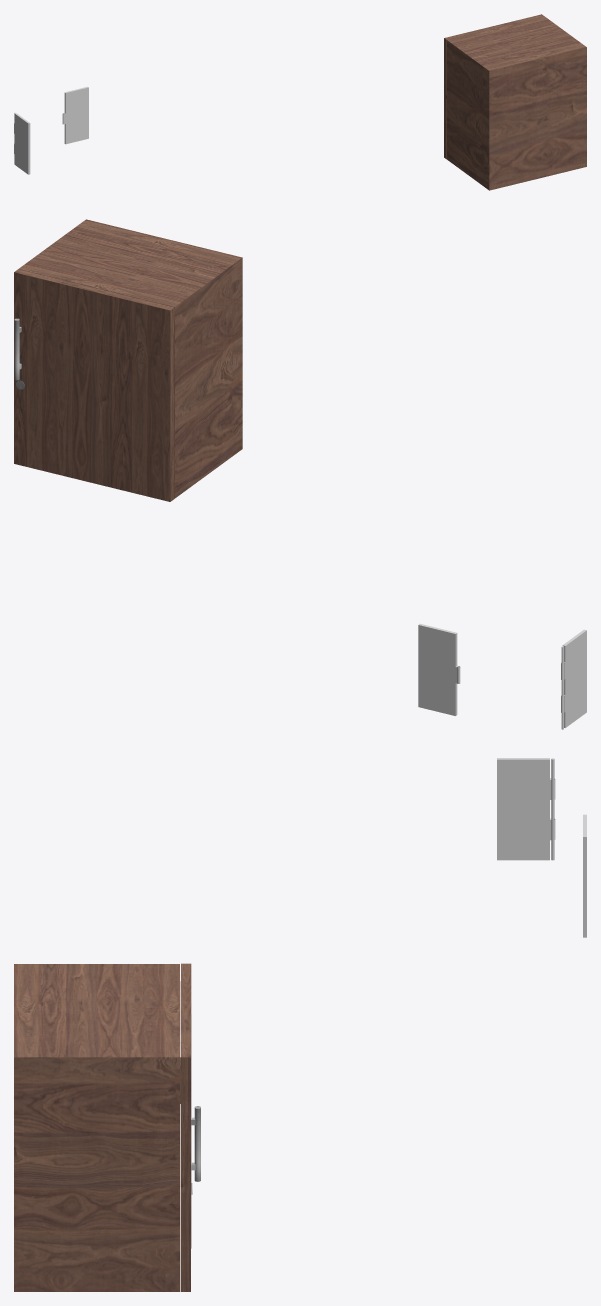
The model's file is Respirator_vault.fbx.
The picture shows the model from 3 angles, top to bottom: view 1: azimuth 30°, elevation 25°; view 2: azimuth 150°, elevation 25°; view 3: azimuth 270°, elevation 25°; orthographic projection. The views are drawn at different scales.
Visible parts, largest first — view 1: Cylinder, hinge2, hinge, Cylinder.005; view 2: Cylinder.005, Cylinder, hinge2, hinge; view 3: Cylinder, hinge, Cylinder.005.
Part boxes in pixels (x1=…): Cylinder: x1=447, y1=16, x2=586, y2=190; hinge2: x1=62, y1=86, x2=88, y2=144; hinge: x1=14, y1=112, x2=30, y2=174; Cylinder.005: x1=444, y1=14, x2=543, y2=159; Cylinder.005: x1=14, y1=269, x2=174, y2=501; Cylinder: x1=18, y1=219, x2=242, y2=498; hinge2: x1=418, y1=623, x2=460, y2=715; hinge: x1=561, y1=629, x2=586, y2=729; Cylinder: x1=14, y1=964, x2=179, y2=1291; hinge: x1=497, y1=758, x2=555, y2=860; Cylinder.005: x1=180, y1=963, x2=191, y2=1291.
Bounding box in the file's own units: 233 × 61 × 135.
2 materials, 2 textured.
